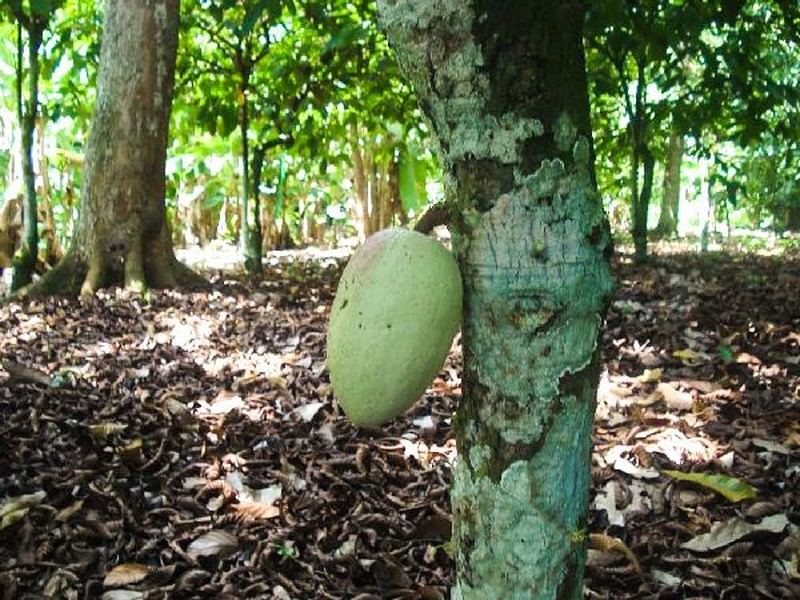Cacaopod: (324, 225, 465, 426)
